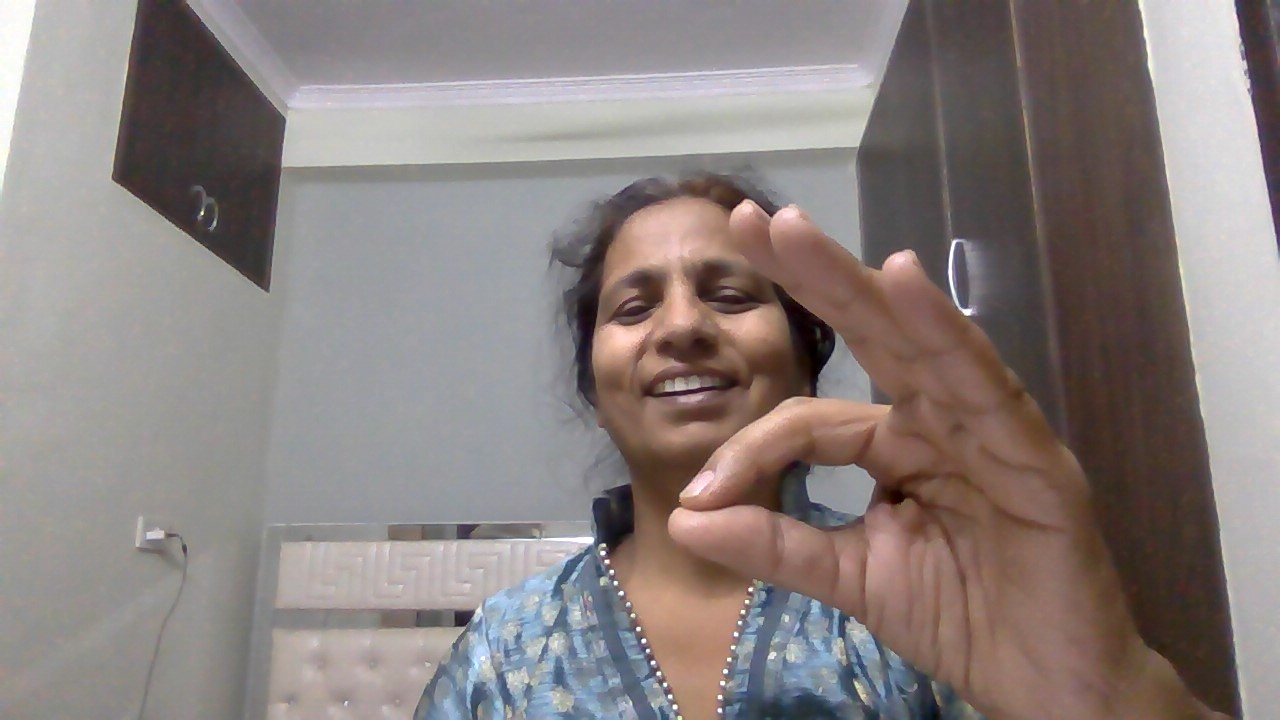Copy: (656, 188, 1248, 719)
